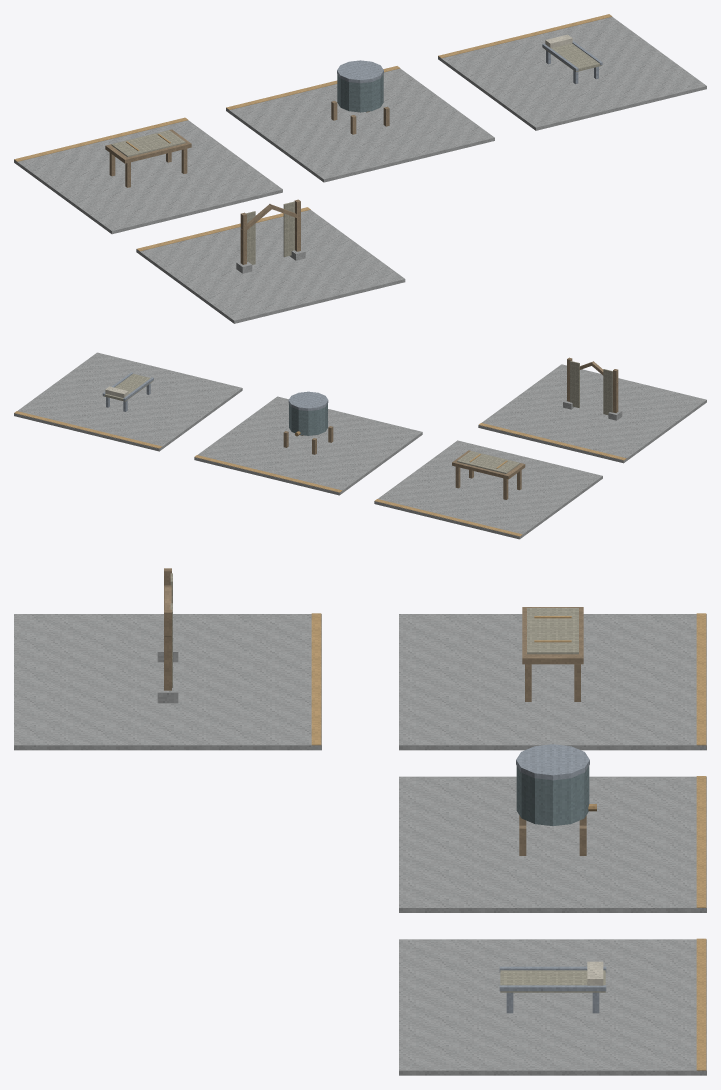
File: level_blockout_kit_wld_04_p04.glb
The picture shows the model from 3 angles, top to bottom: view 1: azimuth 30°, elevation 25°; view 2: azimuth 150°, elevation 25°; view 3: azimuth 270°, elevation 25°; orthographic projection. The views are drawn at different scales.
Parts seen in each view (by area): view 1: level_blockout_kit_wld_04_p04; view 2: level_blockout_kit_wld_04_p04; view 3: level_blockout_kit_wld_04_p04.
Part boxes in pixels (x1,y1,x2,y2): level_blockout_kit_wld_04_p04: [14, 14, 706, 323]; level_blockout_kit_wld_04_p04: [14, 352, 706, 539]; level_blockout_kit_wld_04_p04: [14, 568, 706, 1075].
Size of the model in its own units: 19.65 by 1.98 by 12.6.
Materials: 8 (8 with a texture image).
